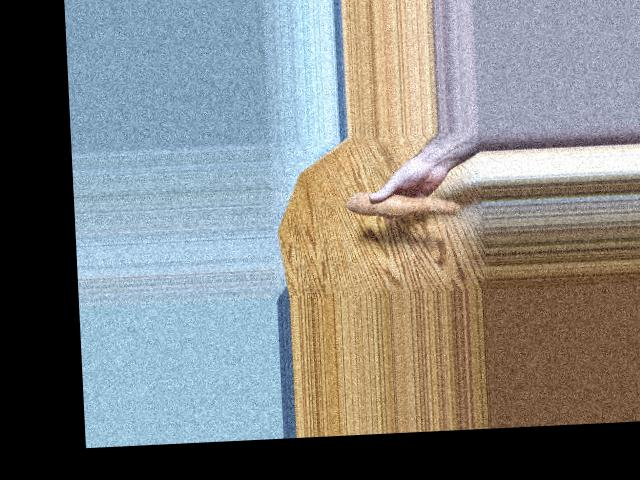sweet_potato: (348, 191, 465, 222)
